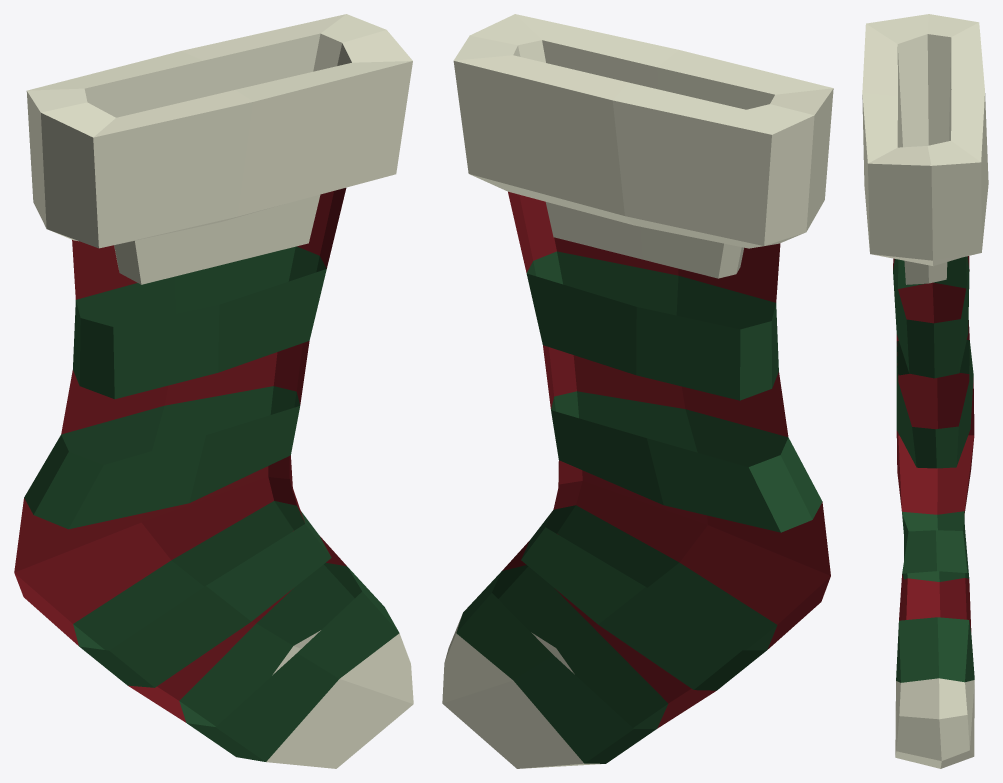
Rendered from Stocking_stripes.fbx.
3 renders of one model, left to right at view 1: azimuth 30°, elevation 25°; view 2: azimuth 150°, elevation 25°; view 3: azimuth 270°, elevation 25°, orthographic. The views are drawn at different scales.
Parts seen in each view (by area): view 1: Stocking_stripes; view 2: Stocking_stripes; view 3: Stocking_stripes.
Part boxes in pixels (bbox=[...]): Stocking_stripes: bbox=[14, 14, 413, 768]; Stocking_stripes: bbox=[442, 14, 833, 768]; Stocking_stripes: bbox=[862, 14, 988, 768].
Bounding box in the file's own units: 0.1261 × 0.2308 × 0.0416.
